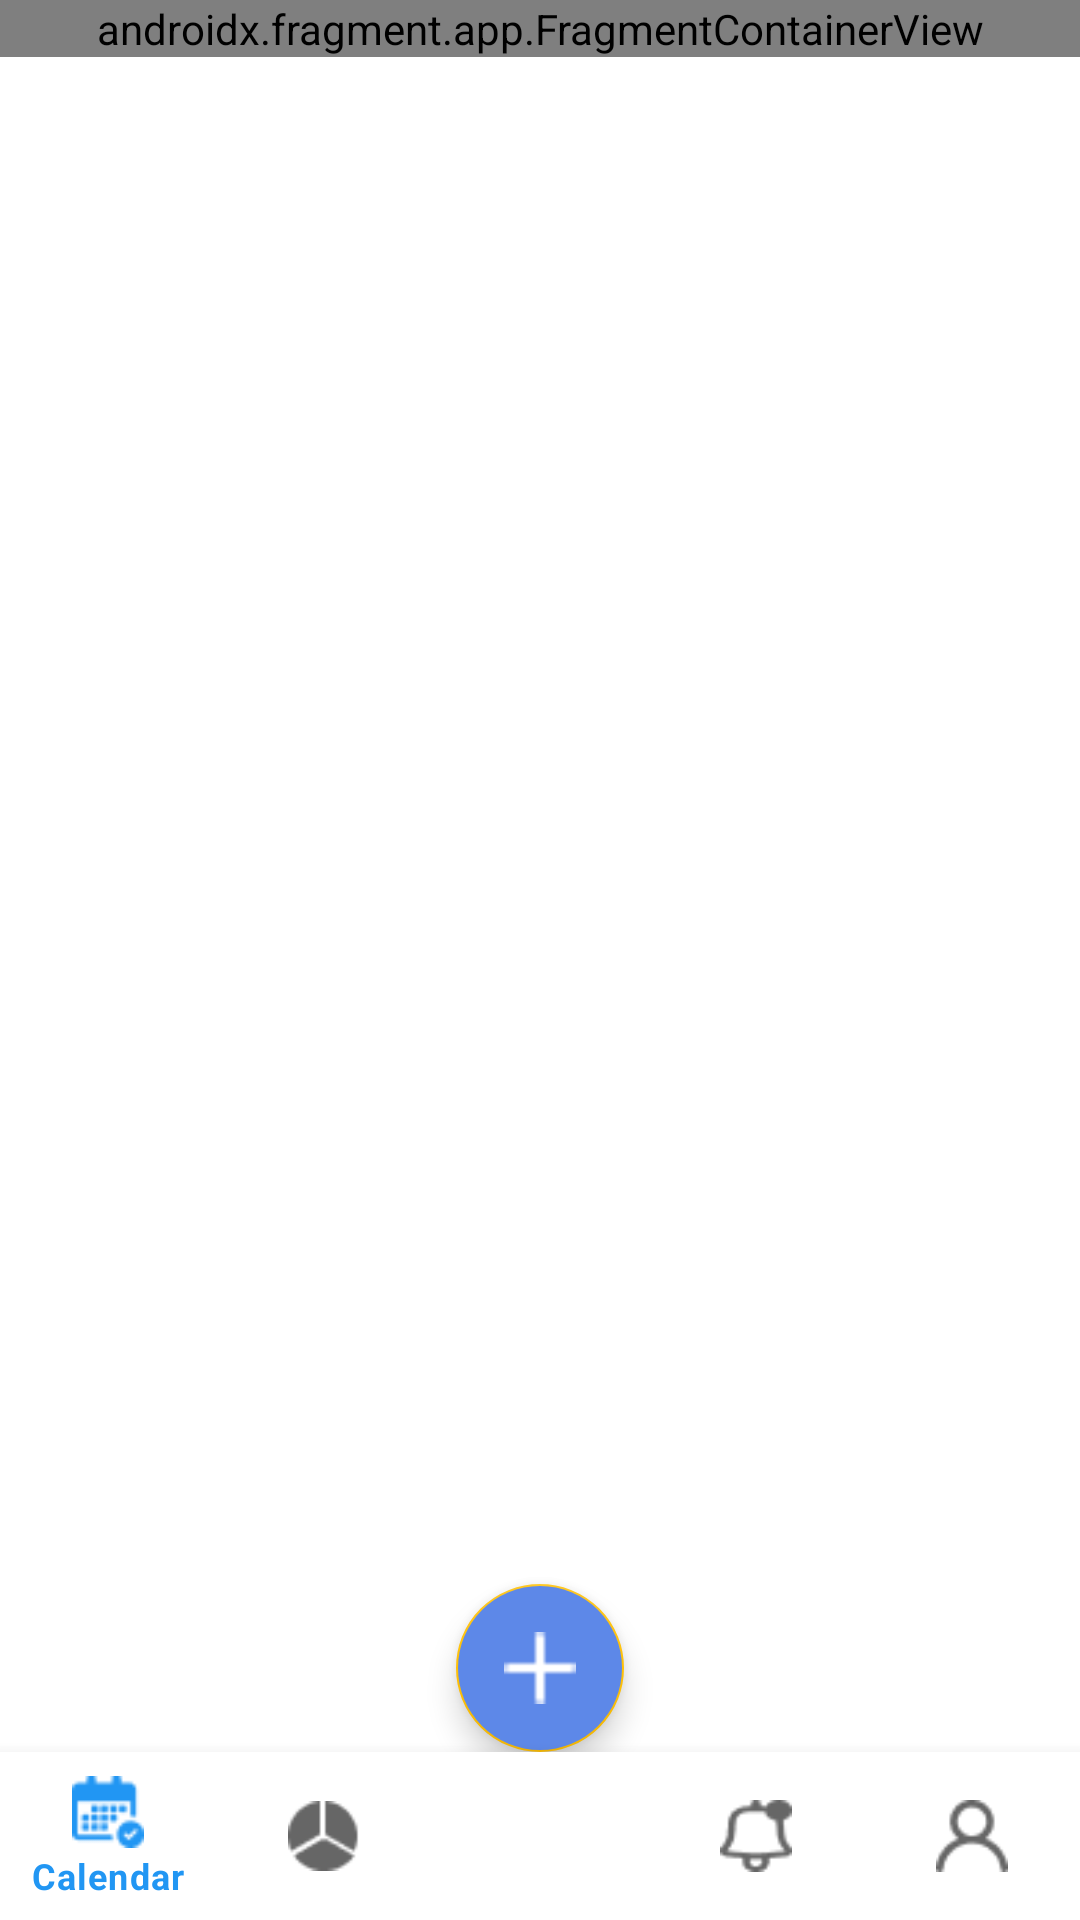

Locate icon controls on the screen. Image size 1080 x 1920, boxes as (left=x1, top=y1, right=x2, bottom=y2).
plus: (left=456, top=1584, right=624, bottom=1752)
